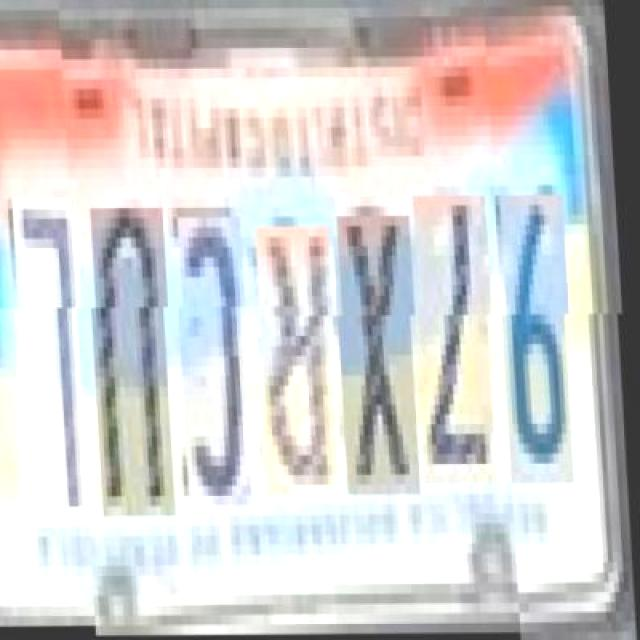7: (414, 195, 500, 483)
9: (499, 185, 576, 473)
c: (178, 218, 255, 506)
l: (14, 207, 92, 526)
r: (255, 227, 342, 496)
u: (91, 207, 178, 516)
x: (336, 216, 422, 494)
